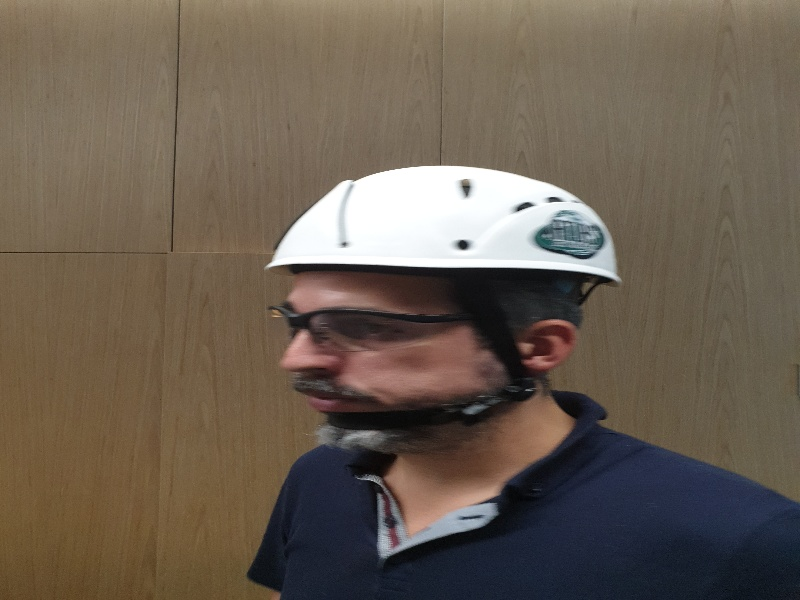Baret: (267, 165, 622, 287)
Gozluk: (269, 304, 489, 352)
